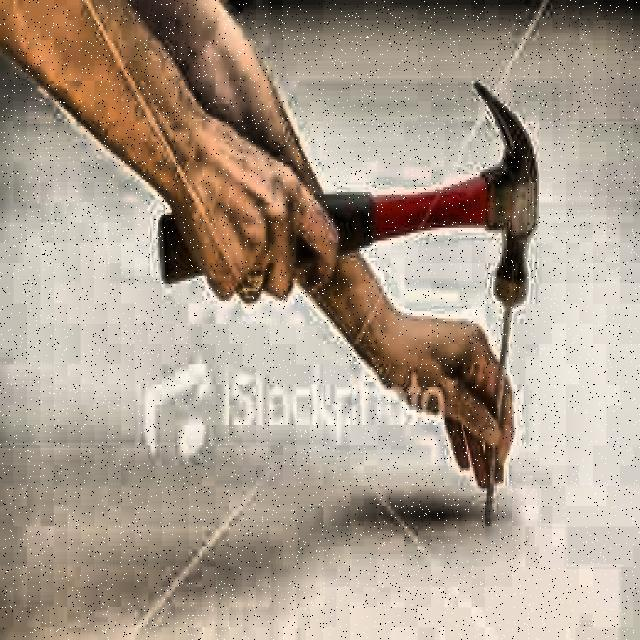hammer: (157, 81, 539, 303)
